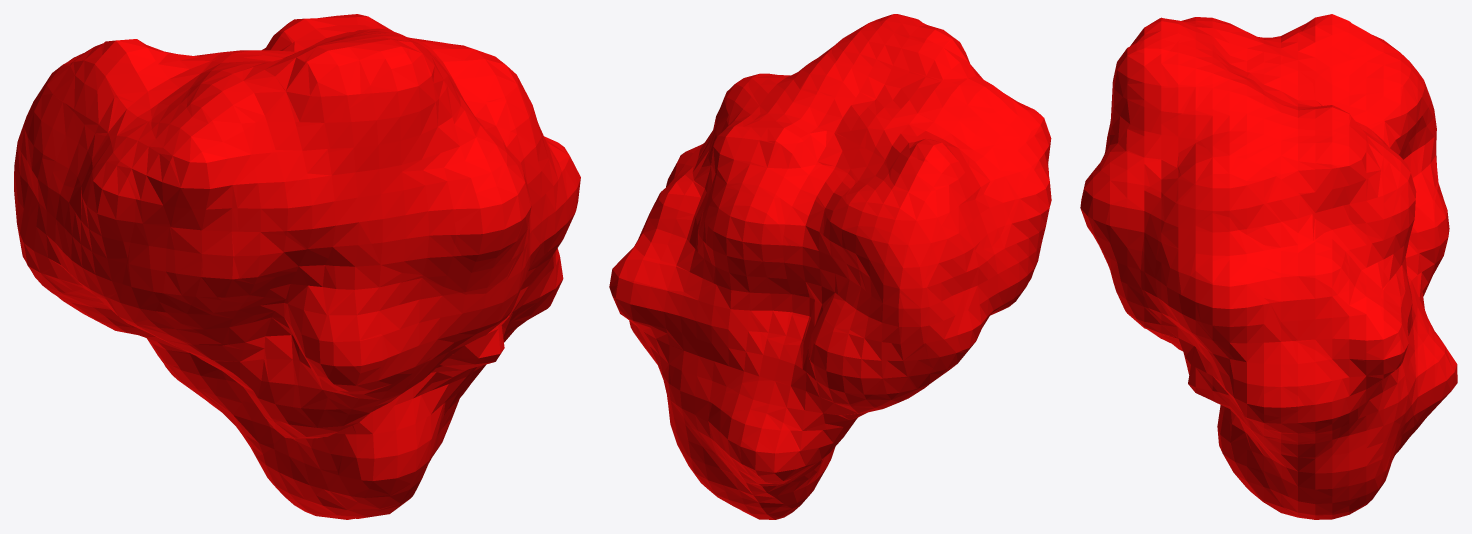
Rendered from ykgE_coarse.dae.
3 views of the same model, side by side, from view 1: azimuth 30°, elevation 25°; view 2: azimuth 150°, elevation 25°; view 3: azimuth 270°, elevation 25° (orthographic). The views are drawn at different scales.
Visible parts, largest first — view 1: ykgE; view 2: ykgE; view 3: ykgE.
Part boxes in pixels (bbox=[...]): ykgE: bbox=[14, 14, 580, 519]; ykgE: bbox=[609, 14, 1051, 519]; ykgE: bbox=[1080, 14, 1457, 519].
Size of the model in its own units: 51.88 by 57.51 by 43.54.
